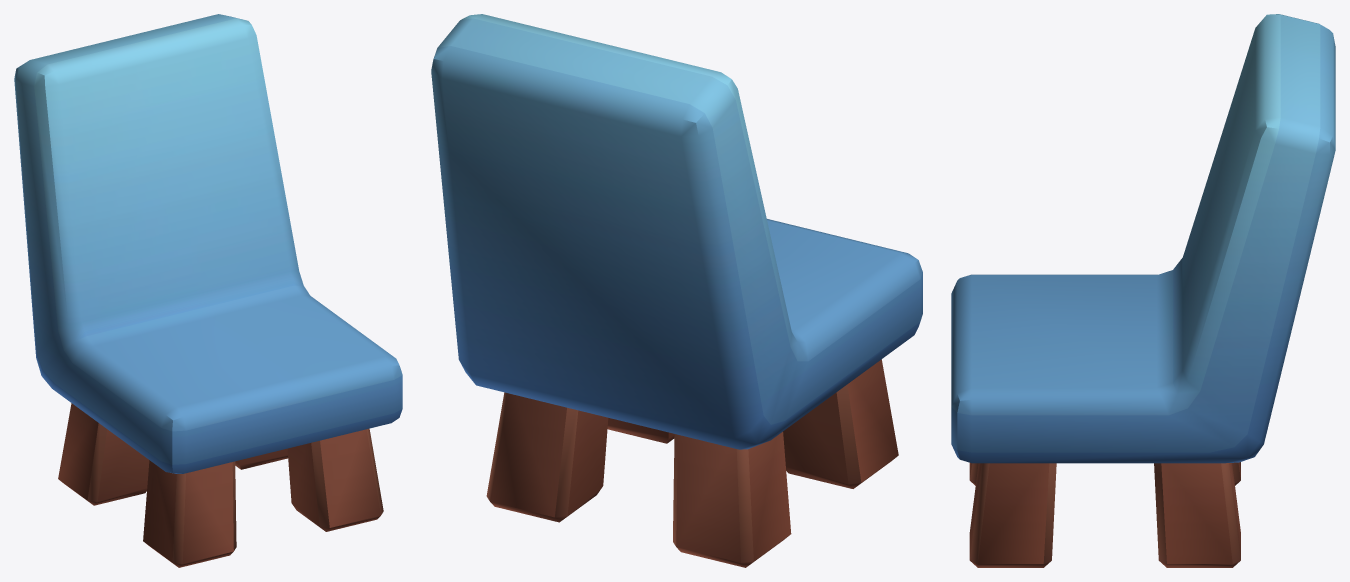
The model's file is chair-c.glb.
3 views of the same model, side by side, from view 1: azimuth 30°, elevation 25°; view 2: azimuth 150°, elevation 25°; view 3: azimuth 270°, elevation 25° (orthographic). The views are drawn at different scales.
Visible parts, largest first — view 1: chair_C; view 2: chair_C; view 3: chair_C.
Boxes of the visible parts, bbox=[...] form: chair_C: bbox=[14, 14, 402, 567]; chair_C: bbox=[431, 14, 922, 567]; chair_C: bbox=[951, 14, 1335, 567].
Bounding box in the file's own units: 0.75 × 1.2 × 0.9357.
Materials: 1 (1 with a texture image).
